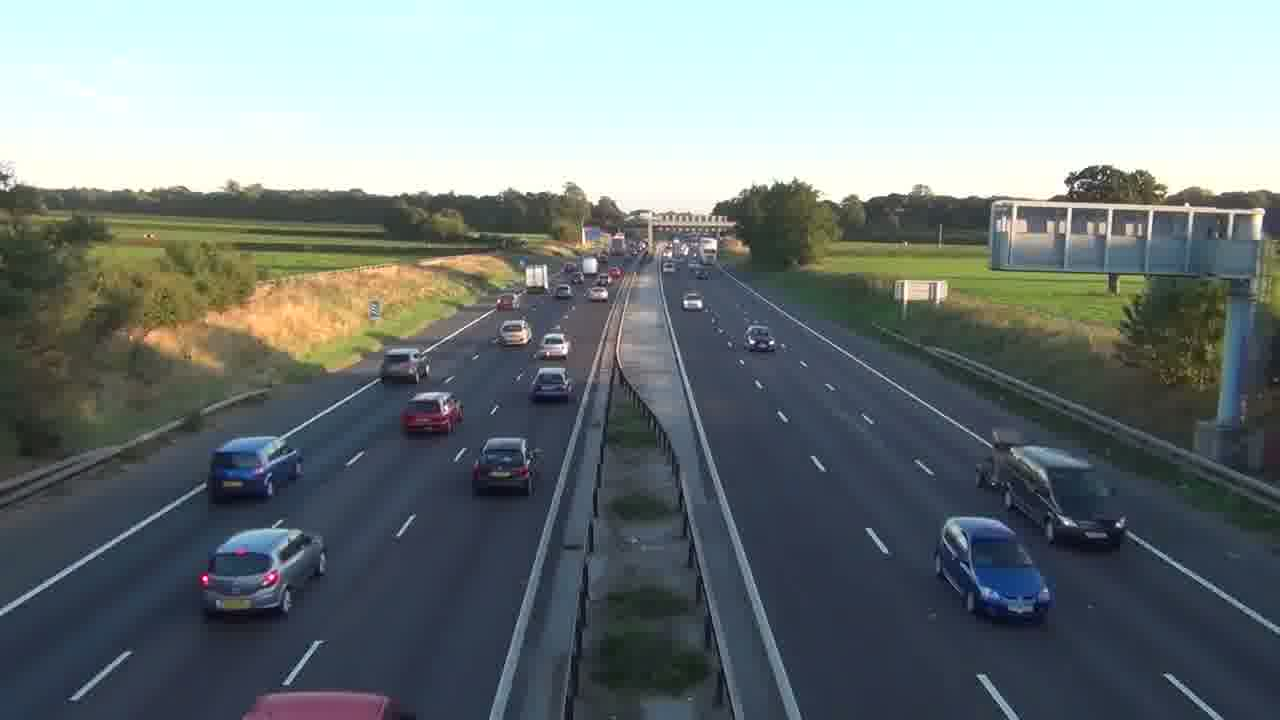car: (933, 514, 1055, 625), (196, 524, 328, 618), (471, 436, 536, 496), (399, 390, 463, 436), (528, 366, 573, 403), (541, 332, 571, 359), (682, 293, 704, 311)
truck: (1001, 444, 1128, 551), (207, 435, 304, 503), (381, 348, 430, 384)
